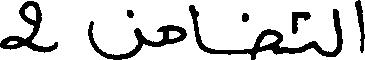X: (0, 0, 55, 57), (88, 5, 142, 59), (255, 24, 281, 59), (191, 0, 203, 55), (164, 20, 185, 49), (334, 0, 341, 59), (357, 0, 364, 57), (310, 10, 315, 54)
